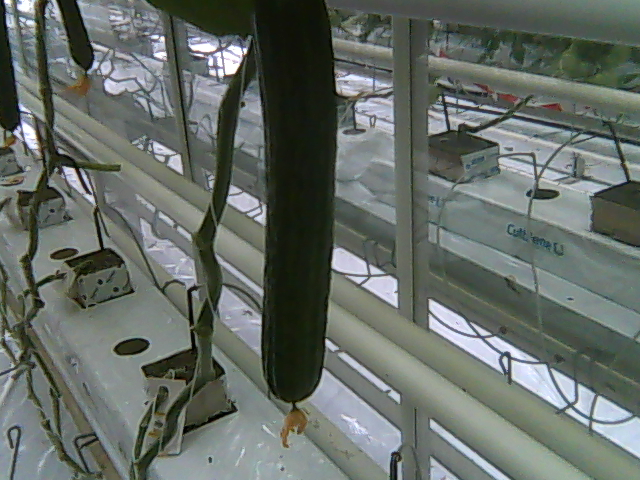concombre: (248, 1, 342, 451)
